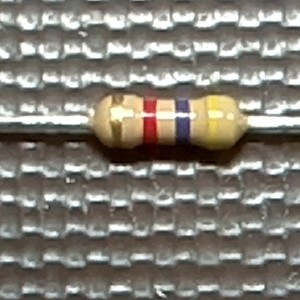gold_band: (107, 90, 129, 153)
red_band: (141, 93, 159, 150)
violet_band: (173, 95, 191, 149)
yellow_band: (203, 93, 224, 155)
